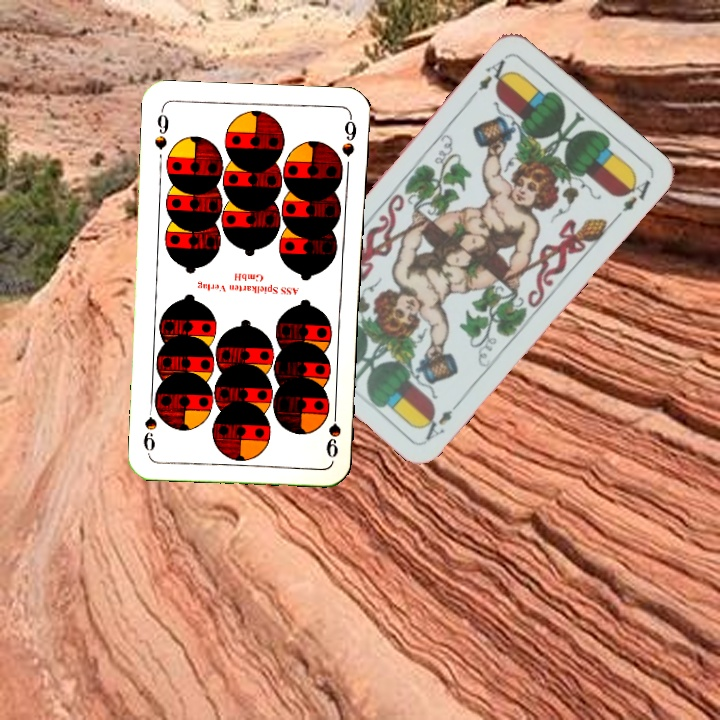EA: (466, 51, 514, 101), (417, 395, 465, 443)
S9: (322, 402, 344, 461), (150, 105, 172, 152)
